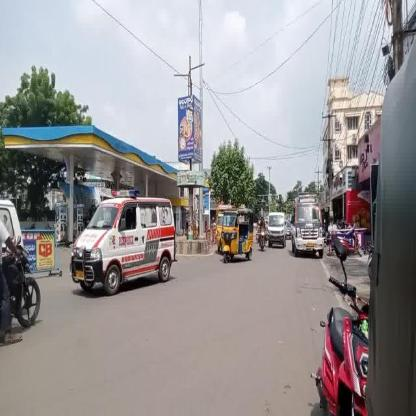priority: (71, 182, 185, 288)
